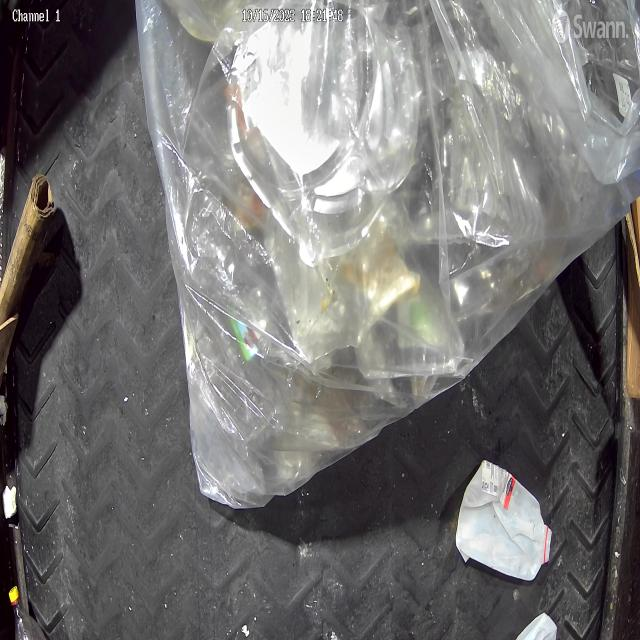milk_jug: (454, 460, 554, 580)
plastic_bottle: (7, 584, 43, 640)
